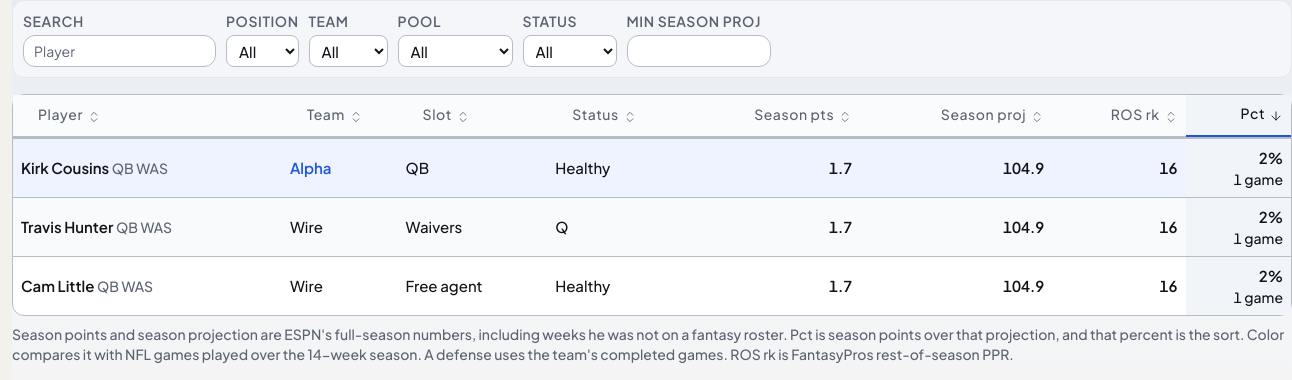
Test: AcquireTable pace › filters to waivers and to a health status
Select "Waivers" in the dropdown labelled "Pool" at (455, 51), box [398,35,513,67]
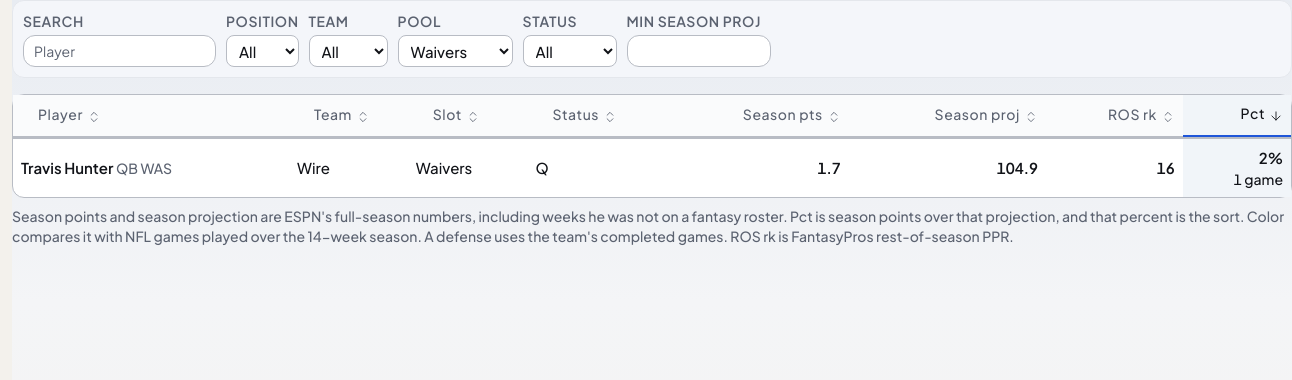
Expected: the text "Travis Hunter" is shown, [21,158,113,176]
Now the text "Kirk Cousins" is gone
Now the text "Cam Little" is gone
Select "All" in the dropdown labelled "Pool" at (455, 51), box [398,35,513,67]
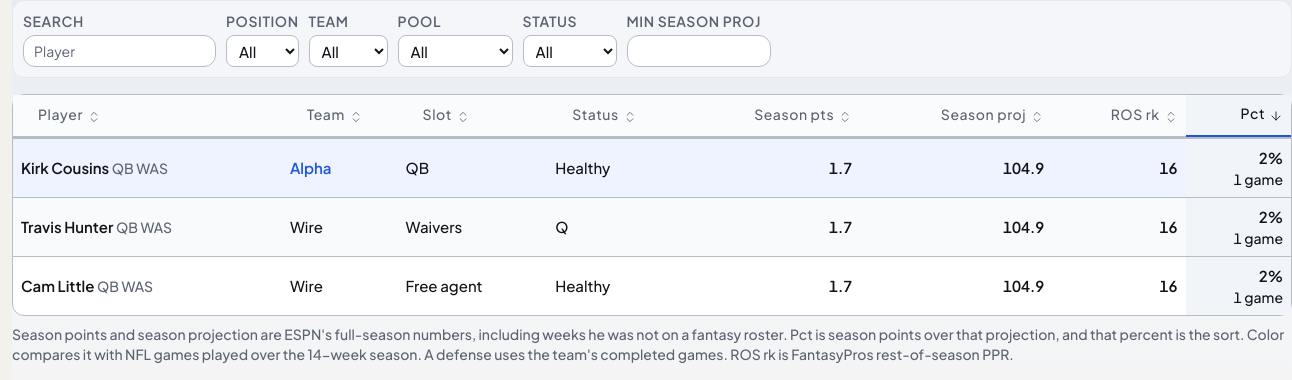
Select "Q" in the dropdown labelled "Status" at (570, 51), box [523,35,617,67]
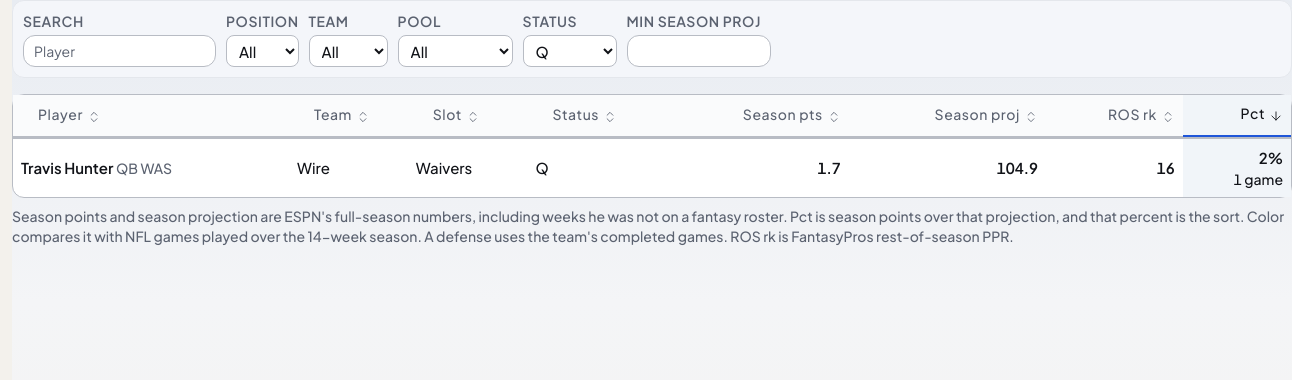
Expected: the text "Travis Hunter" is shown, [21,158,113,176]
Now the text "Kirk Cousins" is gone
Now the text "Cam Little" is gone
